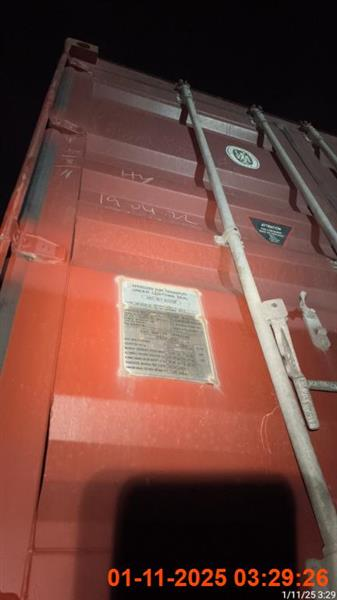broken: (0, 37, 335, 598)
